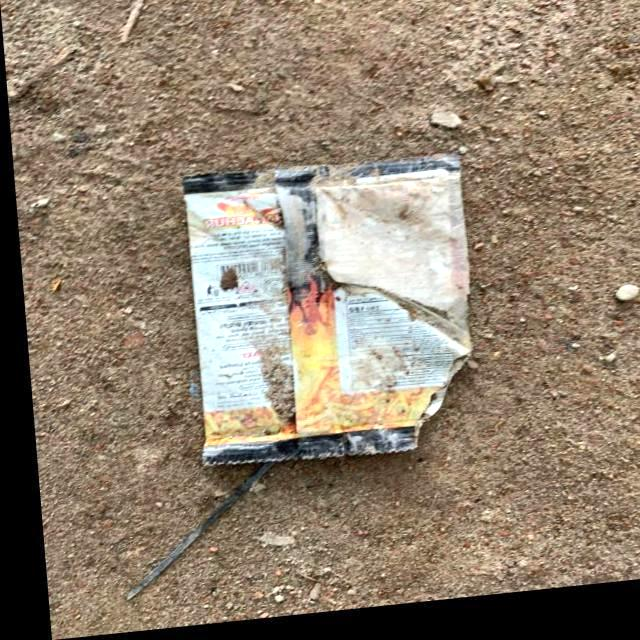packet: (158, 160, 482, 484)
